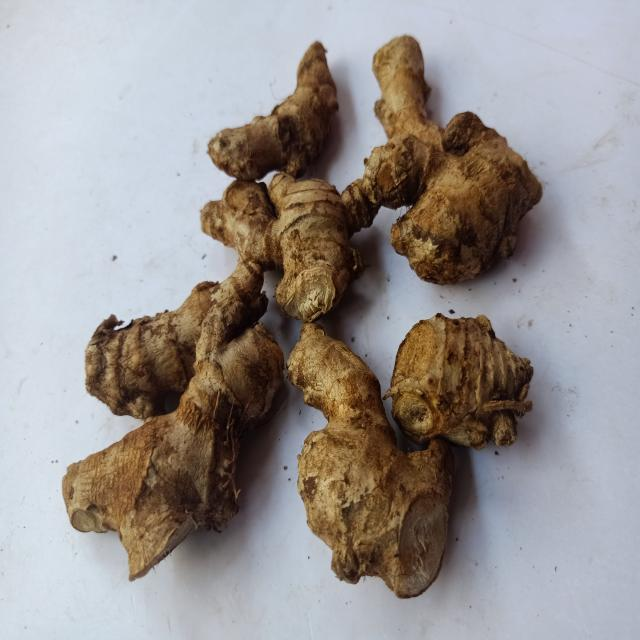Ginger: (61, 260, 284, 581), (287, 323, 455, 599), (360, 34, 543, 284), (384, 313, 534, 449), (84, 281, 219, 421), (208, 40, 338, 179), (268, 173, 364, 322), (373, 34, 444, 149), (340, 178, 381, 236)
